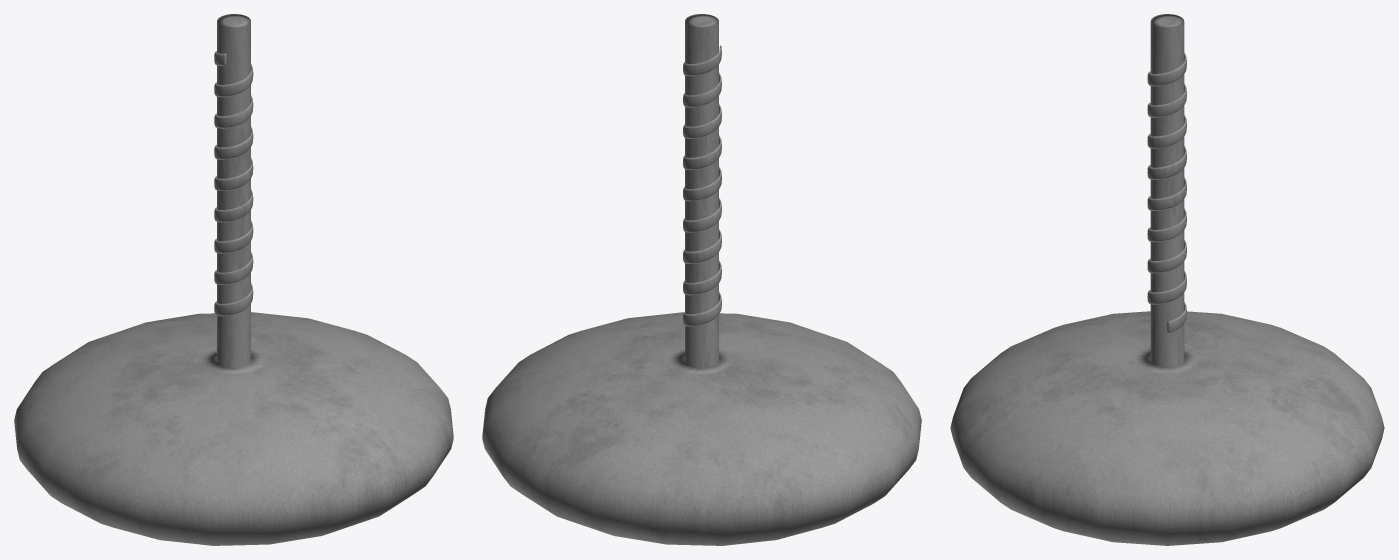
Rendered from vis.fbx.
3 views of the same model, side by side, from view 1: azimuth 30°, elevation 25°; view 2: azimuth 150°, elevation 25°; view 3: azimuth 270°, elevation 25° (orthographic).
Parts seen in each view (by area): view 1: pasted__pasted__pasted__polySurface69; view 2: pasted__pasted__pasted__polySurface69; view 3: pasted__pasted__pasted__polySurface69.
Part boxes in pixels (x1,y1,x2,y2): pasted__pasted__pasted__polySurface69: (14, 14, 453, 545); pasted__pasted__pasted__polySurface69: (482, 14, 921, 545); pasted__pasted__pasted__polySurface69: (950, 14, 1384, 545).
Size of the model in its own units: 3.3 by 3.93 by 3.23.
Materials: 1 (1 with a texture image).
